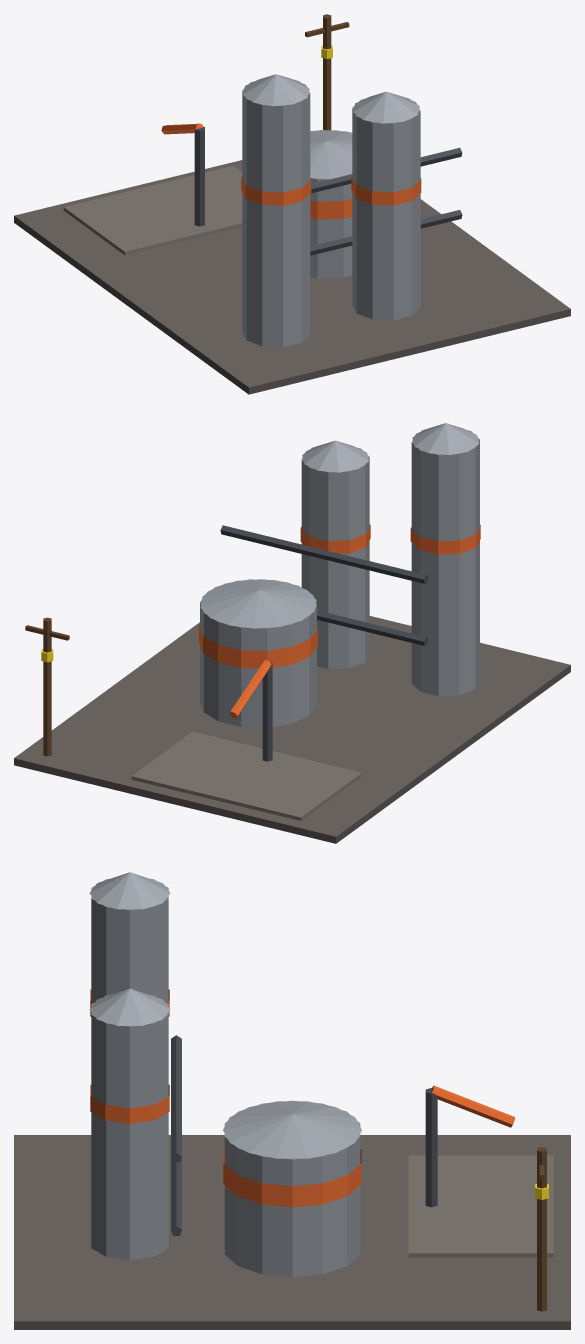
Rendered from fuel_plant.glb.
3 renders of one model, top to bottom at view 1: azimuth 30°, elevation 25°; view 2: azimuth 150°, elevation 25°; view 3: azimuth 270°, elevation 25°, orthographic. The views are drawn at different scales.
Parts seen in each view (by area): view 1: fuel_plant; view 2: fuel_plant; view 3: fuel_plant.
Boxes of the visible parts, <box> form: fuel_plant: <box>14,14,570,394</box>; fuel_plant: <box>14,423,570,843</box>; fuel_plant: <box>14,872,570,1329</box>.
Bounding box in the file's own units: 3.8 × 3 × 4.8.
